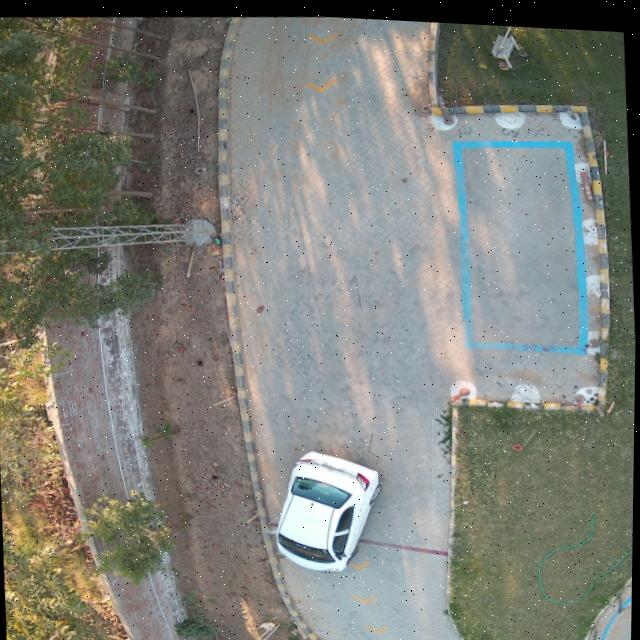car: (277, 446, 384, 567)
